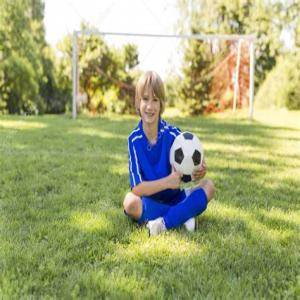Football: (169, 130, 204, 182)
